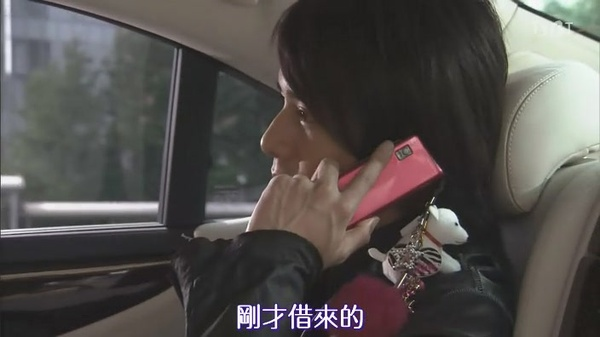face: (259, 52, 387, 236)
